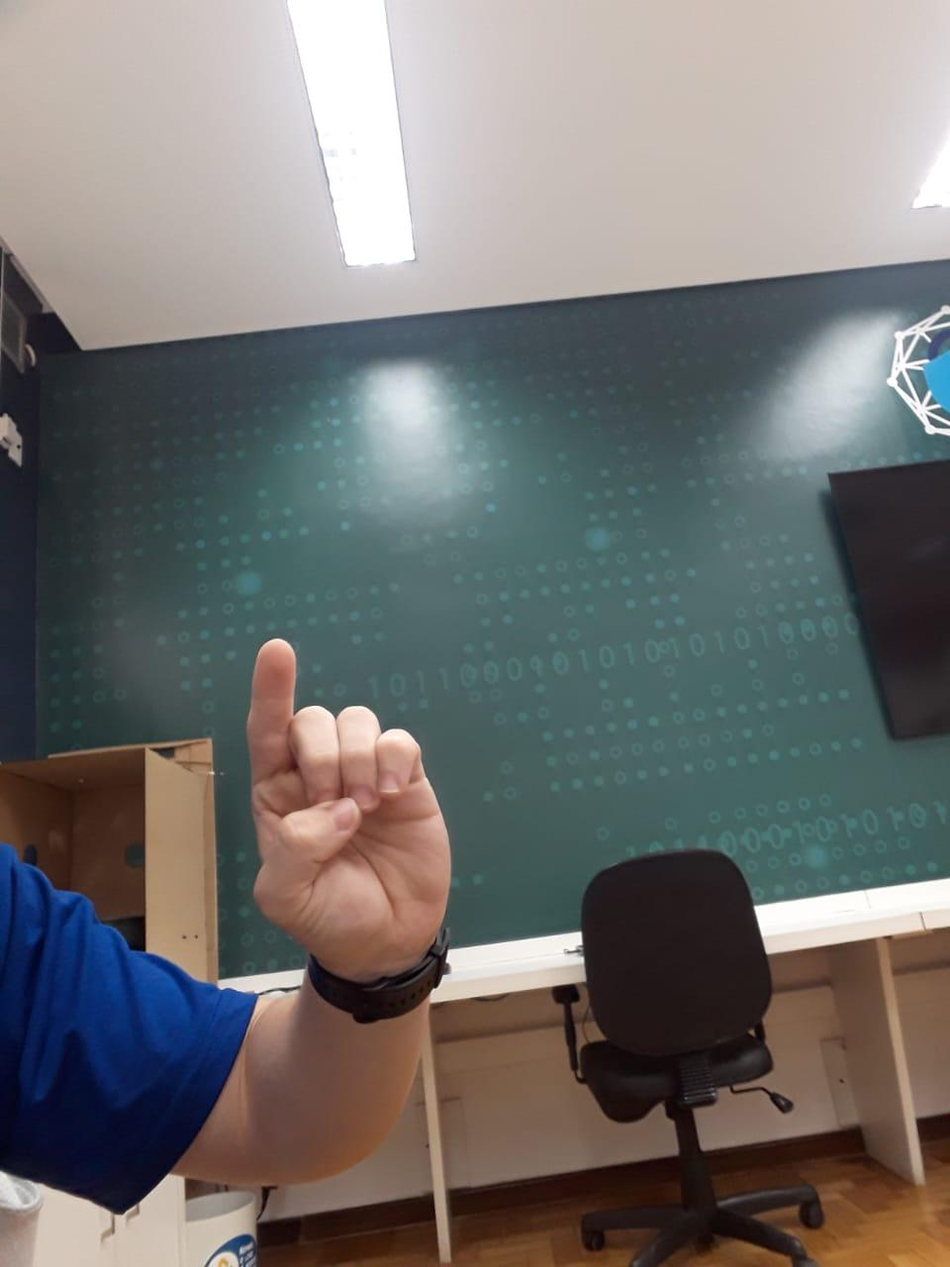D2: (234, 624, 475, 967)
